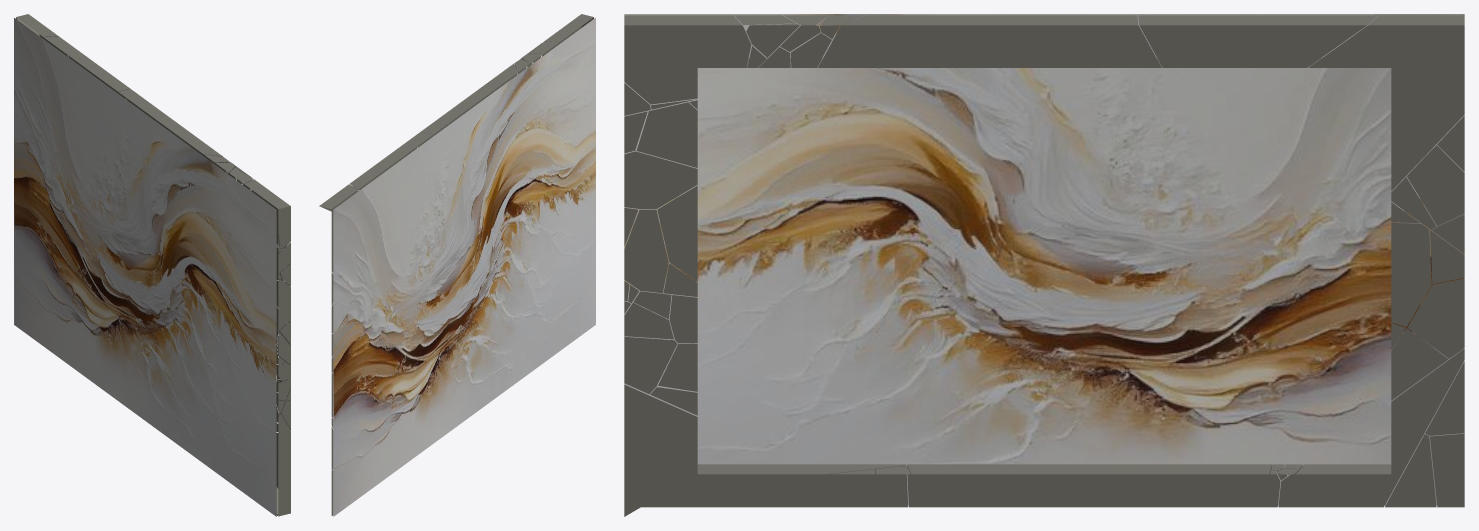
Rendered from painting_main.glb.
3 renders of one model, left to right at view 1: azimuth 30°, elevation 25°; view 2: azimuth 150°, elevation 25°; view 3: azimuth 270°, elevation 25°, orthographic. The views are drawn at different scales.
Parts seen in each view (by area): view 1: Plane.007, Plane.002_cell.008, Plane.002_cell.004, Plane.002_cell_cell.007, Plane.002_cell.012, Plane.002_cell.007_cell.001, Plane.002_cell.002, Plane.002_cell.007_cell; view 2: Plane.007, Plane.002_cell.004, Plane.002_cell.012, Plane.002_cell.002, Plane.002_cell_cell.007; view 3: Plane.007_cell.002, Plane.007_cell.001, Plane.007_cell.003_cell.001, Plane.007_cell_cell.001, Plane.002_cell.008, Plane.002_cell.004, Plane.002_cell.005, Plane.007_cell_cell.002, Plane.007_cell_cell.003, Plane.002_cell.002, Plane.007_cell.003_cell.002, Plane.002_cell.012 (+25 smaller).
Boxes of the visible parts, x1=… form: Plane.007: x1=14, y1=18, x2=276, y2=516; Plane.002_cell.008: x1=276, y1=414, x2=290, y2=516; Plane.002_cell.004: x1=118, y1=88, x2=226, y2=172; Plane.002_cell_cell.007: x1=244, y1=179, x2=290, y2=249; Plane.002_cell.012: x1=43, y1=36, x2=129, y2=99; Plane.002_cell.007_cell.001: x1=276, y1=279, x2=290, y2=330; Plane.002_cell.002: x1=16, y1=14, x2=67, y2=56; Plane.002_cell.007_cell: x1=277, y1=324, x2=290, y2=365; Plane.007: x1=333, y1=18, x2=595, y2=516; Plane.002_cell.004: x1=417, y1=63, x2=518, y2=147; Plane.002_cell.012: x1=350, y1=132, x2=433, y2=190; Plane.002_cell.002: x1=319, y1=184, x2=358, y2=272; Plane.002_cell_cell.007: x1=542, y1=14, x2=593, y2=56; Plane.007_cell.002: x1=1022, y1=14, x2=1464, y2=279; Plane.007_cell.001: x1=624, y1=243, x2=1053, y2=505; Plane.007_cell.003_cell.001: x1=1043, y1=268, x2=1317, y2=464; Plane.007_cell_cell.001: x1=801, y1=125, x2=1036, y2=258; Plane.002_cell.008: x1=624, y1=384, x2=908, y2=516; Plane.002_cell.004: x1=818, y1=15, x2=1161, y2=67; Plane.002_cell.005: x1=907, y1=464, x2=1280, y2=507; Plane.007_cell_cell.002: x1=810, y1=14, x2=1028, y2=153; Plane.007_cell_cell.003: x1=624, y1=123, x2=809, y2=267; Plane.002_cell.002: x1=1308, y1=15, x2=1464, y2=190; Plane.007_cell.003_cell.002: x1=1282, y1=275, x2=1464, y2=405; Plane.002_cell.012: x1=1138, y1=15, x2=1377, y2=67.
Size of the model in its own units: 0.1521 by 3.1 by 4.8.
Materials: 2 (1 with a texture image).
